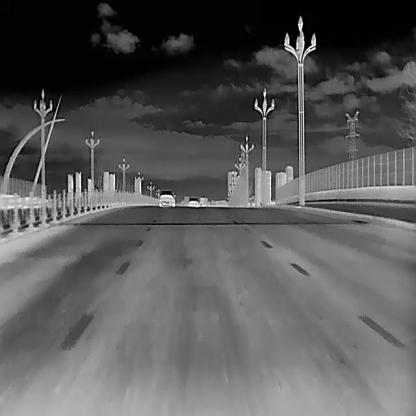car: (158, 190, 175, 206), (187, 196, 198, 206)
